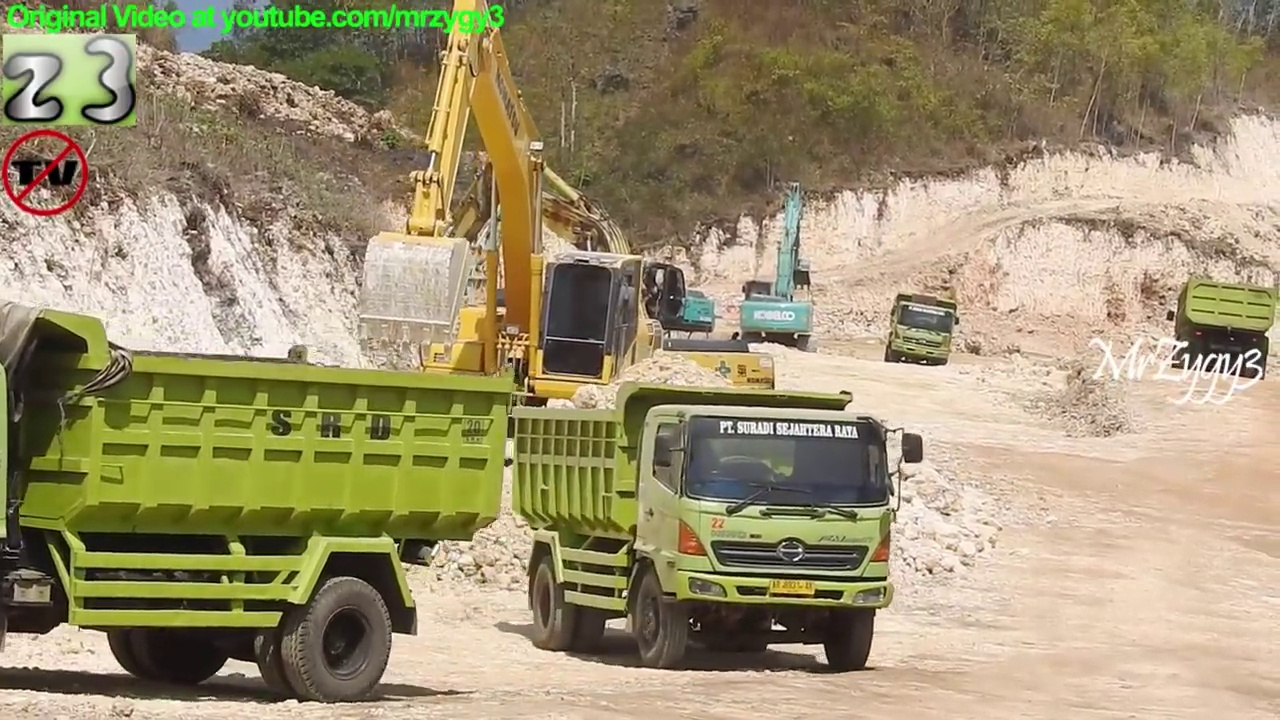excavator: (353, 1, 712, 492), (410, 131, 782, 471), (469, 154, 724, 375), (737, 182, 824, 355)
truck: (1, 292, 516, 705), (509, 376, 927, 682), (1165, 276, 1280, 385), (882, 288, 964, 369)
